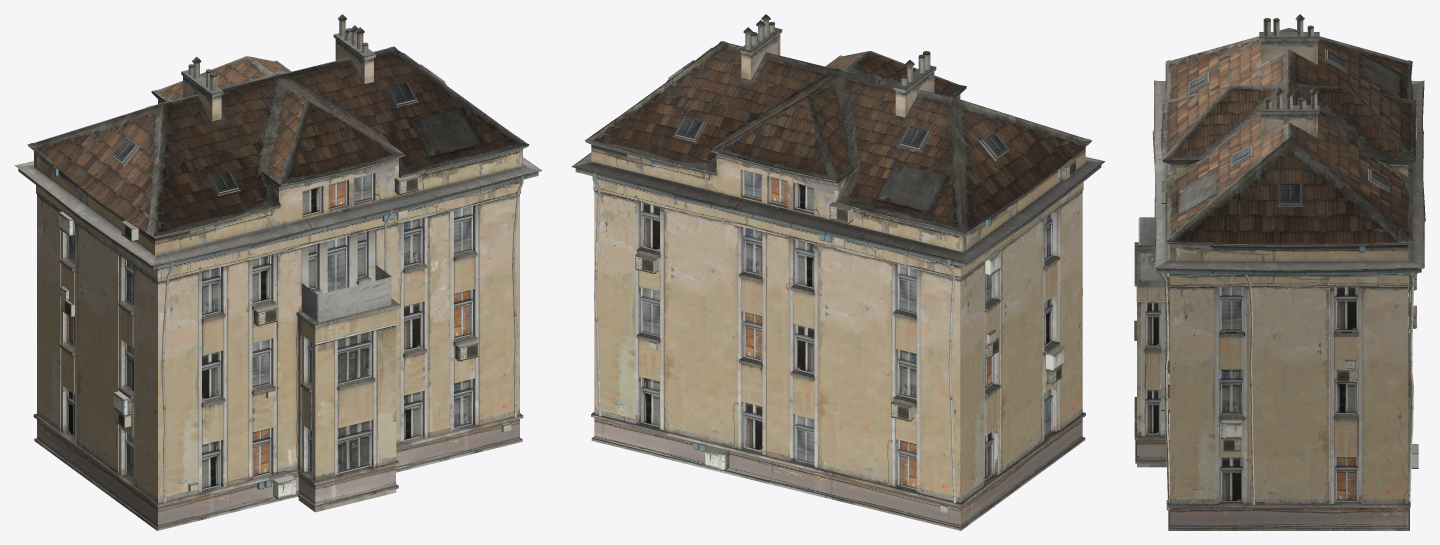
Rendered from house_22.obj.
3 renders of one model, left to right at view 1: azimuth 30°, elevation 25°; view 2: azimuth 150°, elevation 25°; view 3: azimuth 270°, elevation 25°, orthographic. The views are drawn at different scales.
Parts seen in each view (by area): view 1: house_22; view 2: house_22; view 3: house_22.
Part boxes in pixels (x1,y1,x2,y2): house_22: [14, 14, 542, 530]; house_22: [571, 14, 1105, 530]; house_22: [1134, 14, 1425, 530].
Bounding box in the file's own units: 54.61 × 53.45 × 35.52.
